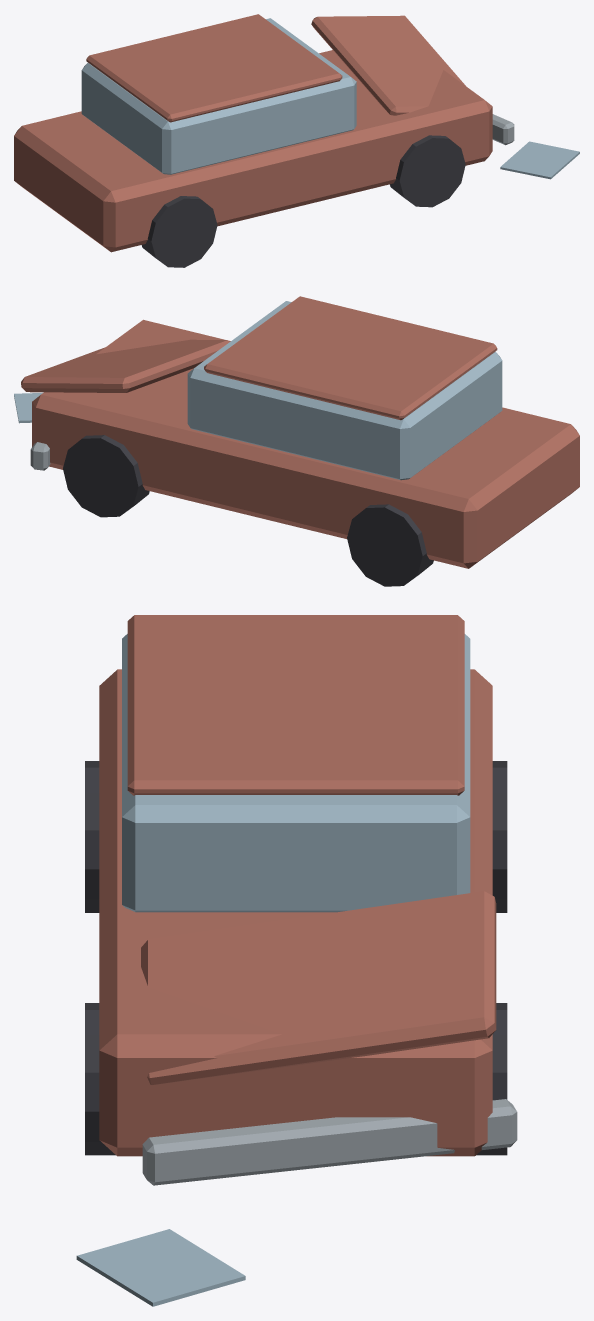
File: DamagedCar.fbx
3 renders of one model, top to bottom at view 1: azimuth 30°, elevation 25°; view 2: azimuth 150°, elevation 25°; view 3: azimuth 270°, elevation 25°, orthographic. The views are drawn at different scales.
Visible parts, largest first — view 1: Car_Body, Car_Roof, Car_Cabin, Car_Hood_Crumpled, Car_Wheel, Car_Wheel.002, Car_Glass_Shards, Car_Bumper; view 2: Car_Body, Car_Roof, Car_Cabin, Car_Hood_Crumpled, Car_Wheel.003, Car_Wheel.001, Car_Glass_Shards, Car_Bumper; view 3: Car_Roof, Car_Body, Car_Hood_Crumpled, Car_Cabin, Car_Bumper, Car_Glass_Shards, Car_Wheel.002, Car_Wheel.001, Car_Wheel, Car_Wheel.003.
Part boxes in pixels (x1,y1,x2,y2): Car_Body: (14,50,492,252); Car_Roof: (86,14,342,122); Car_Cabin: (81,18,356,174); Car_Hood_Crumpled: (311,15,465,115); Car_Wheel: (141,196,217,267); Car_Wheel.002: (390,135,465,207); Car_Glass_Shards: (500,141,579,179); Car_Bumper: (492,114,514,145); Car_Body: (32,319,579,568); Car_Roof: (204,296,497,420); Car_Cabin: (187,301,502,480); Car_Hood_Crumpled: (21,339,229,392); Car_Wheel.003: (63,435,149,517); Car_Wheel.001: (347,504,433,586); Car_Glass_Shards: (14,393,42,423); Car_Bumper: (30,442,50,470); Car_Roof: (127,615,464,795); Car_Body: (99,669,492,1156); Car_Hood_Crumpled: (141,891,496,1085); Car_Cabin: (122,634,470,912); Car_Bumper: (142,1099,517,1185); Car_Glass_Shards: (76,1229,245,1306); Car_Wheel.002: (85,1003,115,1155); Car_Wheel.001: (492,761,507,912); Car_Wheel: (85,761,99,912); Car_Wheel.003: (476,1003,507,1155).
Size of the model in its own units: 4.99 by 1.42 by 1.96.
